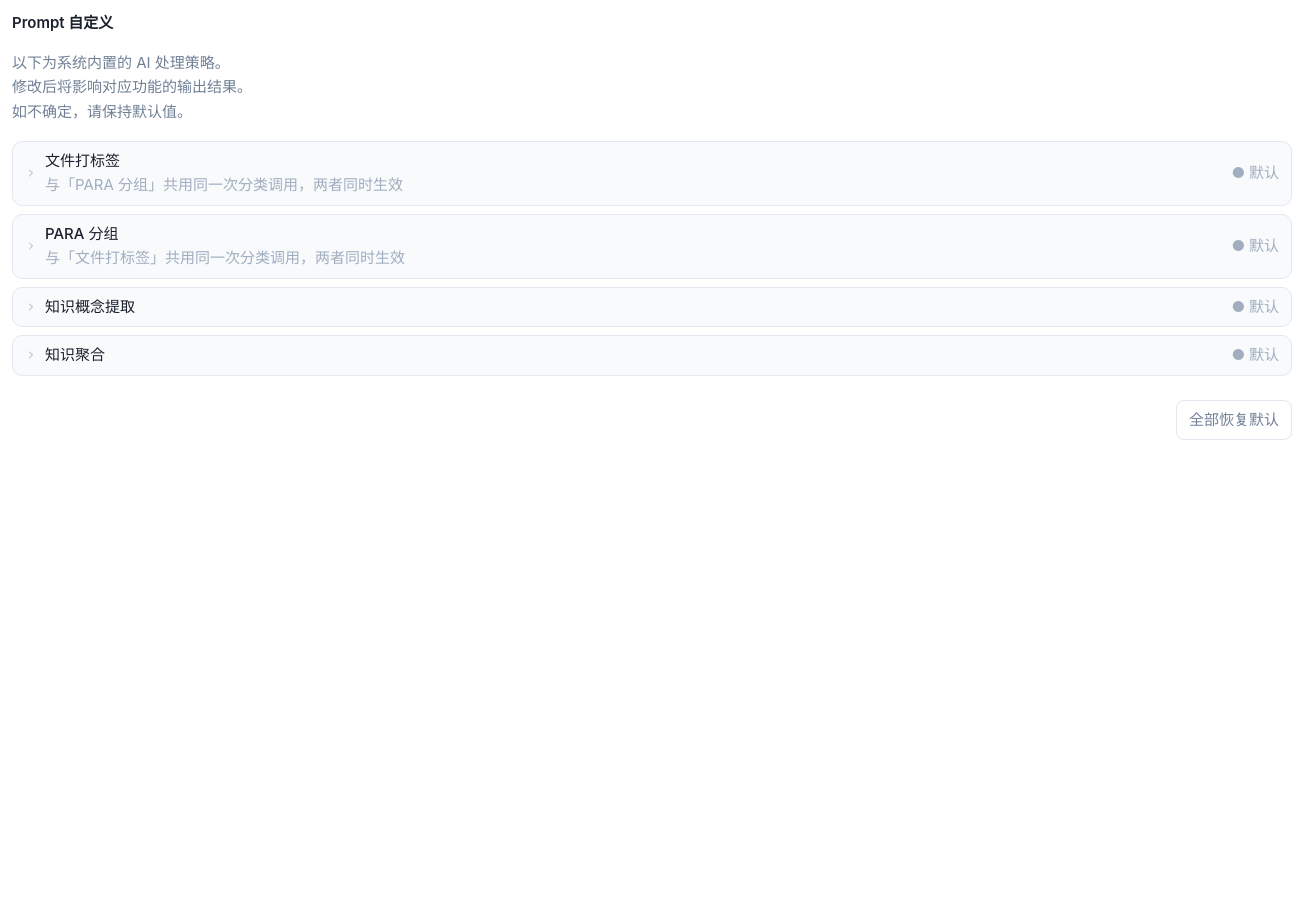
Test case: AC-5 ② 点击展开第一个折叠条 › 点击 tagging 折叠头 → textarea 出现
Step 1. Click the button with test id "prompt-toggle-tagging" → (83, 160), box [13,142,1291,205]
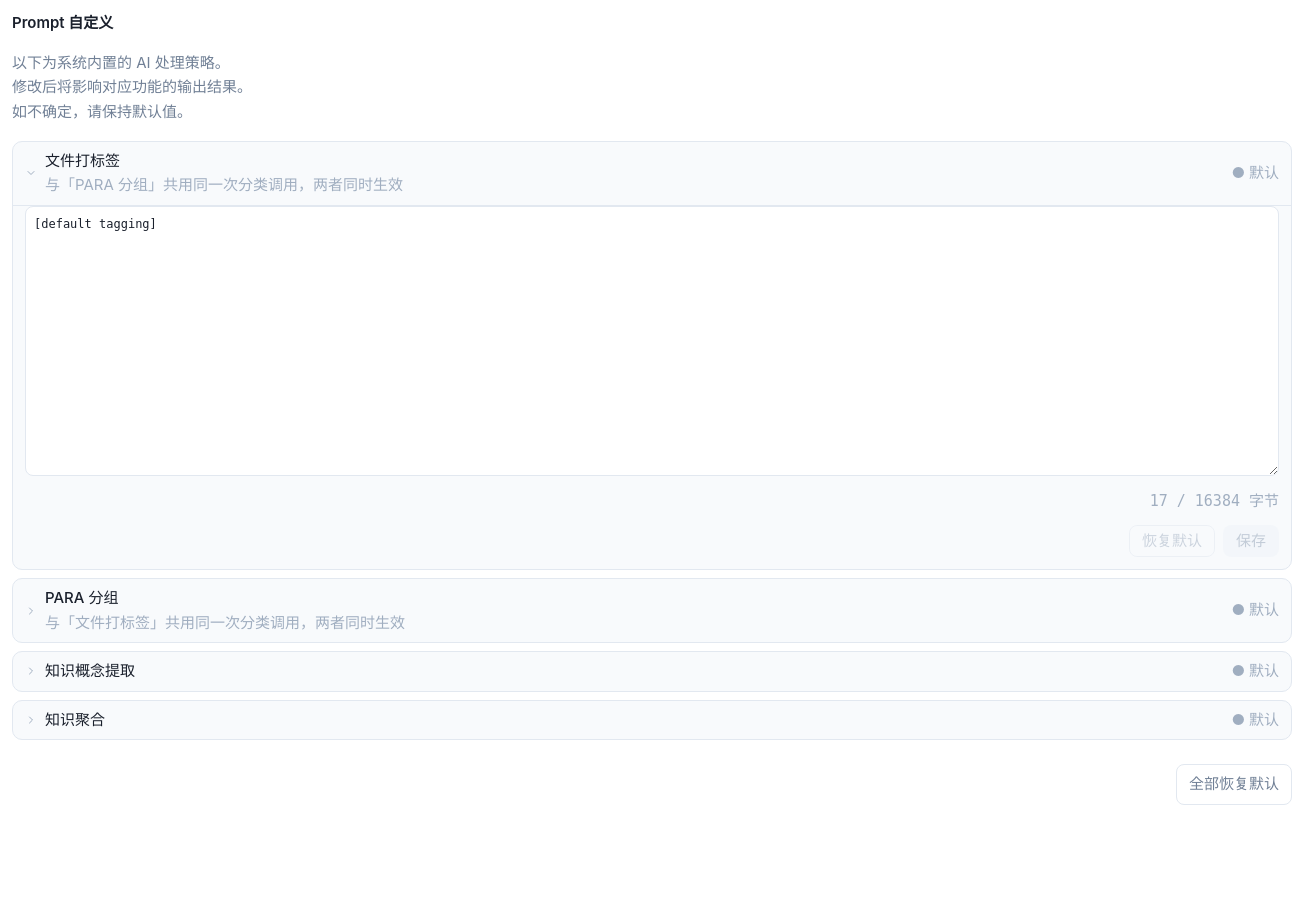
Now the text box with test id "prompt-textarea-tagging" is shown, box [25,206,1279,476]
